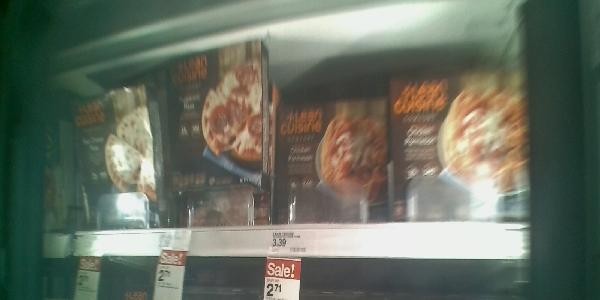pizza1: (389, 64, 528, 226), (279, 105, 392, 222), (61, 91, 157, 226), (166, 57, 265, 183)
